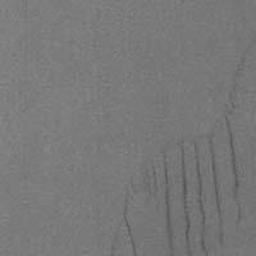Inclusion: (178, 40, 256, 256), (108, 141, 175, 256)
